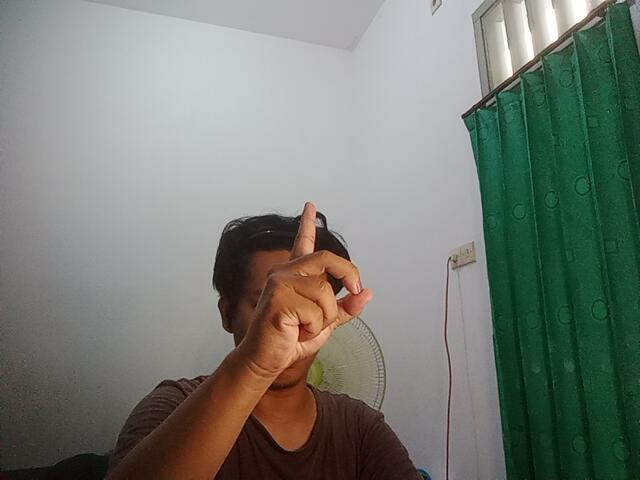D: (243, 196, 381, 377)
